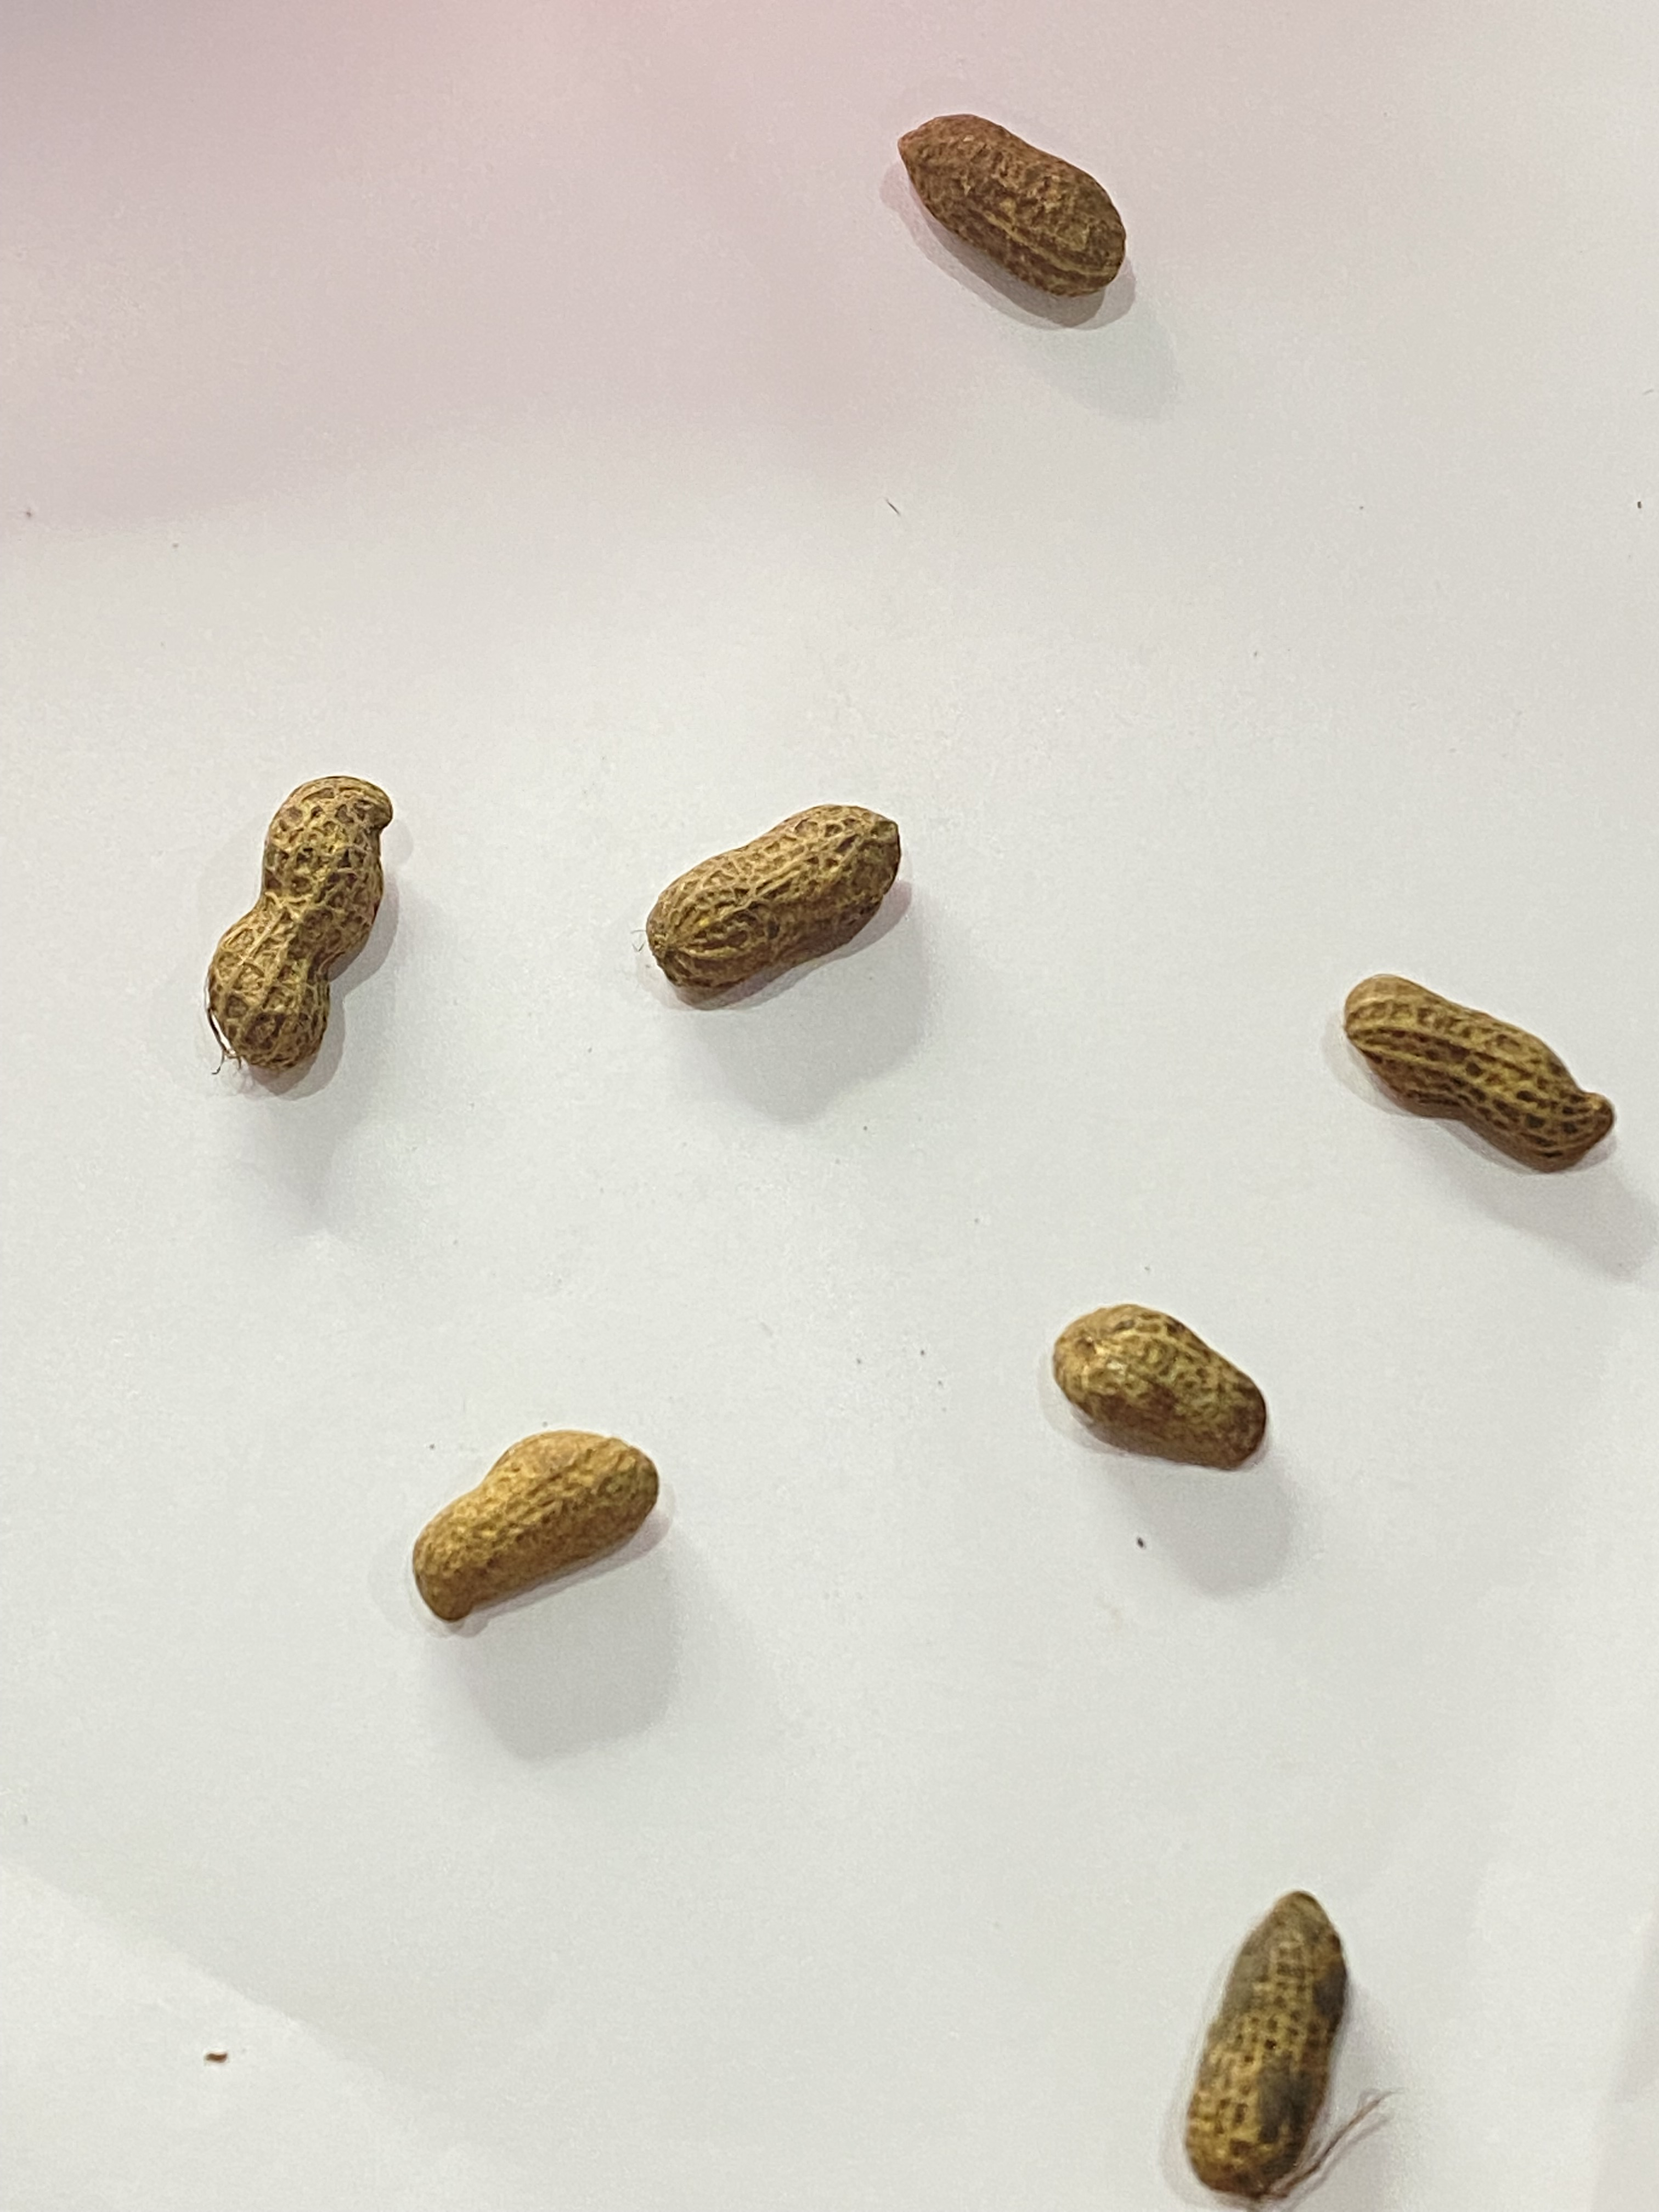kacang1: (1051, 1268, 1277, 1493)
kacang2: (1108, 1841, 1448, 2212), (169, 749, 448, 1092), (1314, 942, 1626, 1184), (582, 799, 936, 1005), (871, 101, 1159, 340), (371, 1411, 676, 1623)
